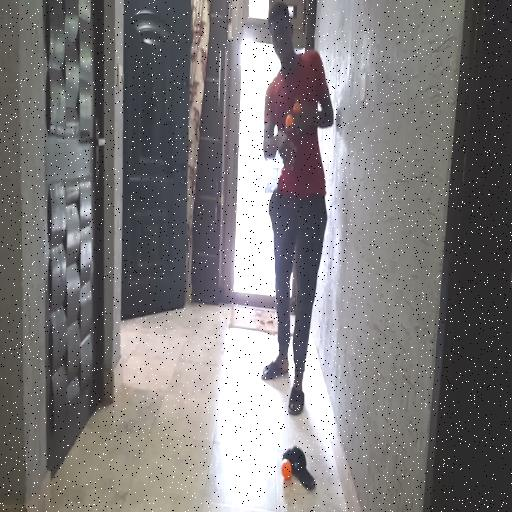plastic-ball: (281, 458, 294, 484)
